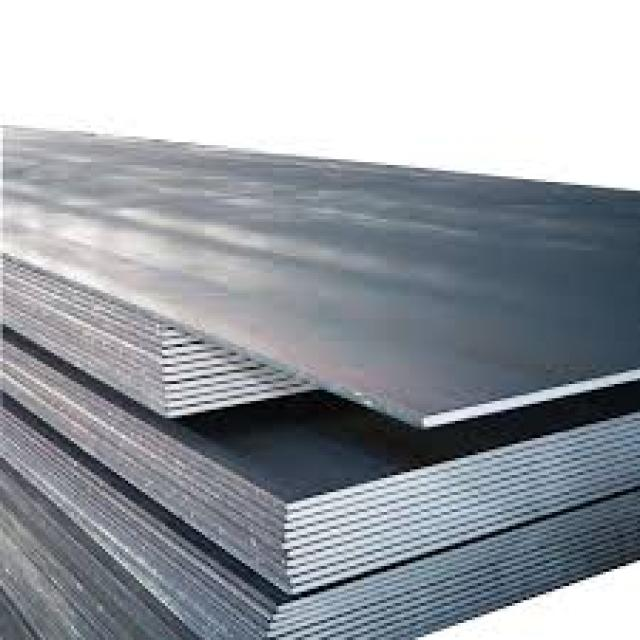Dry: (3, 128, 640, 634)
